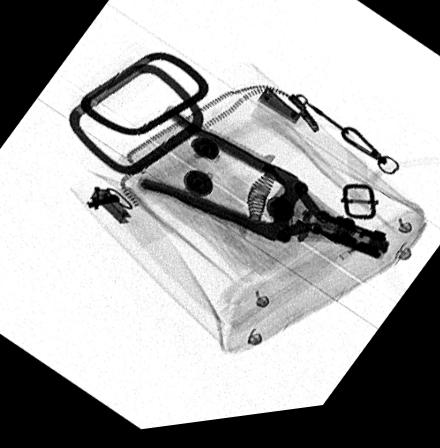Pliers: (138, 108, 393, 269)
